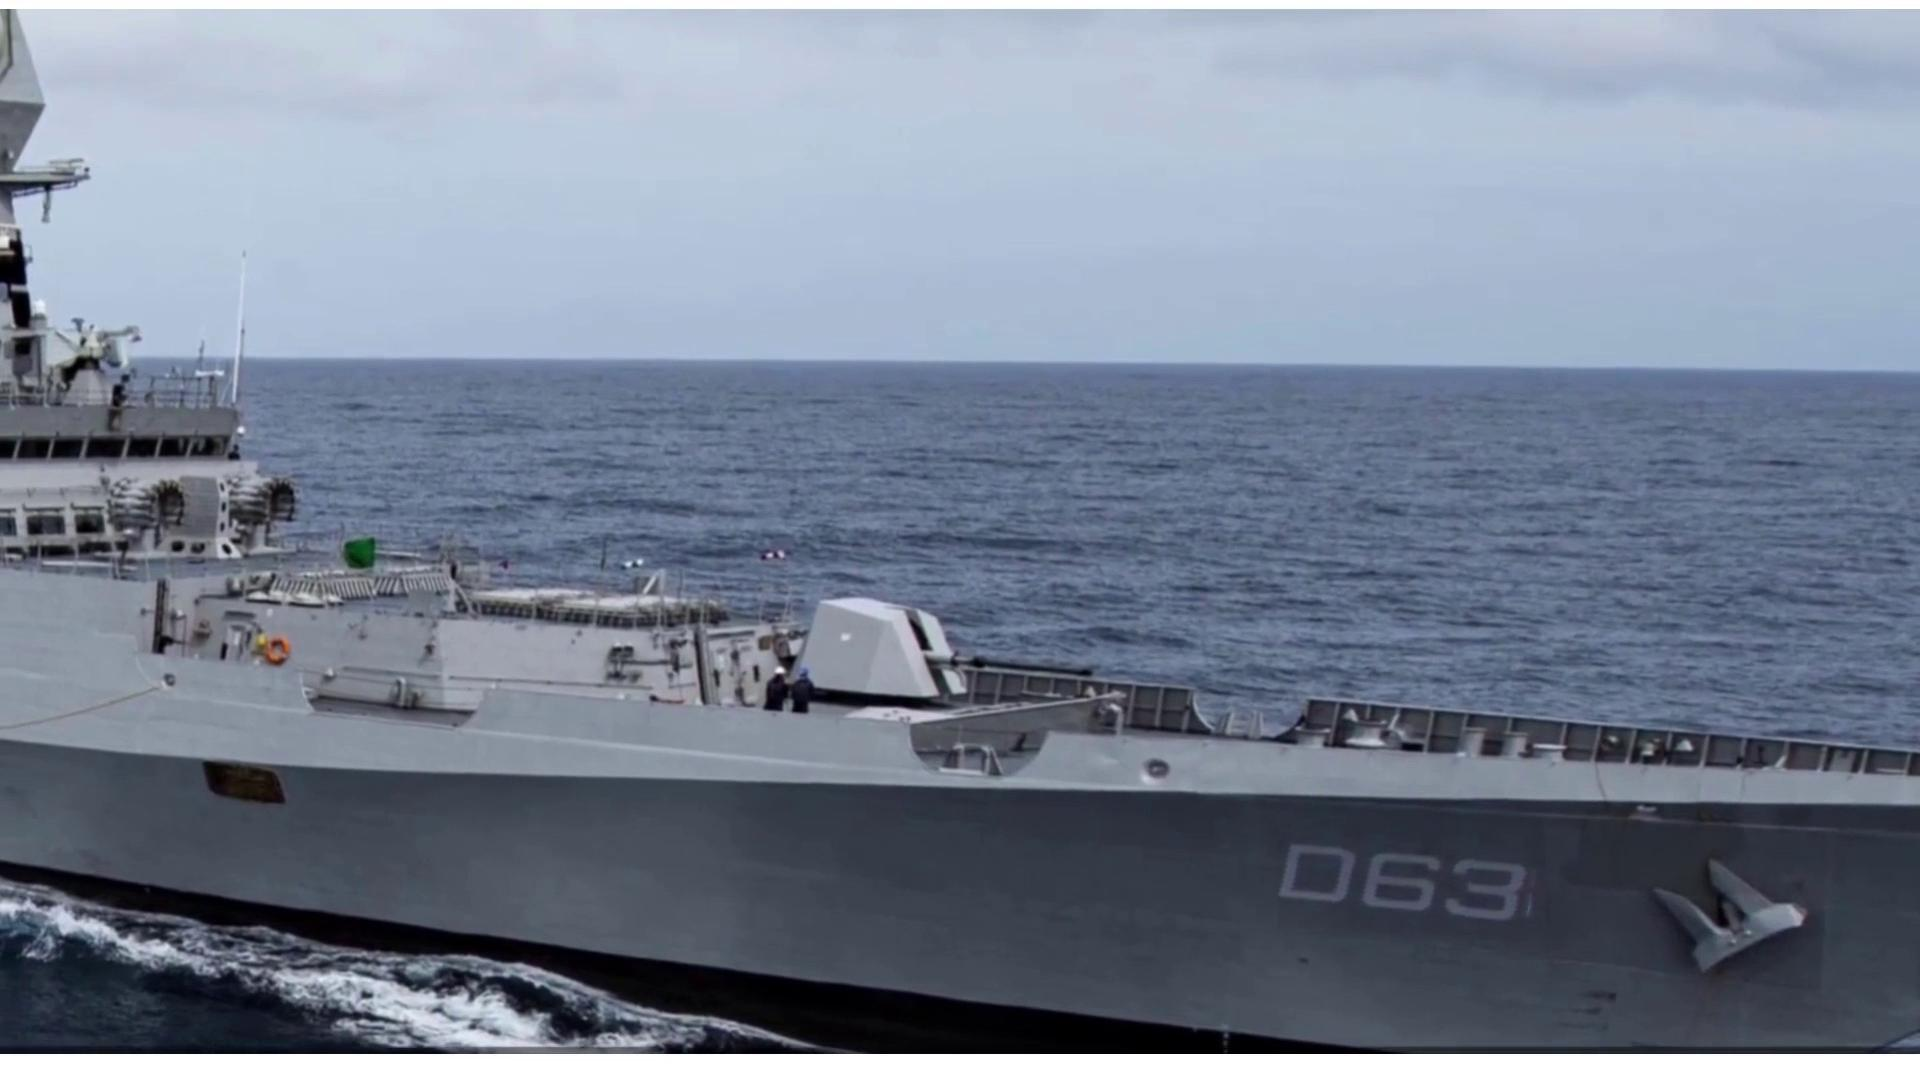OCR: (1278, 828, 1543, 935)
